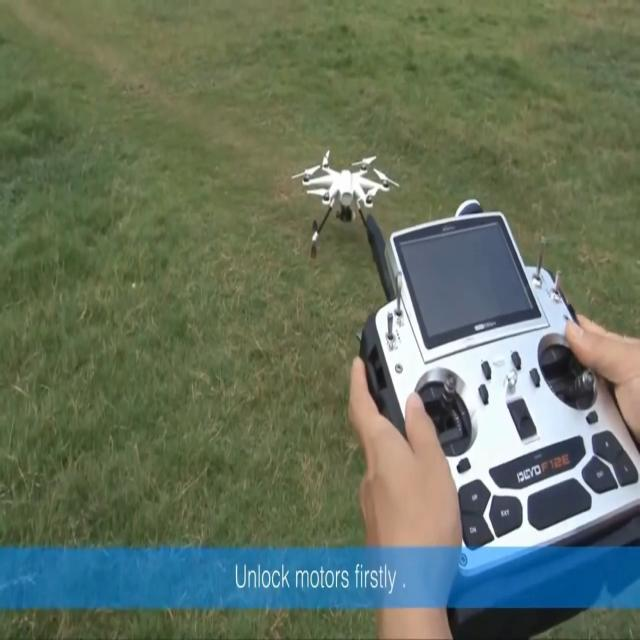drone: (291, 148, 399, 259)
